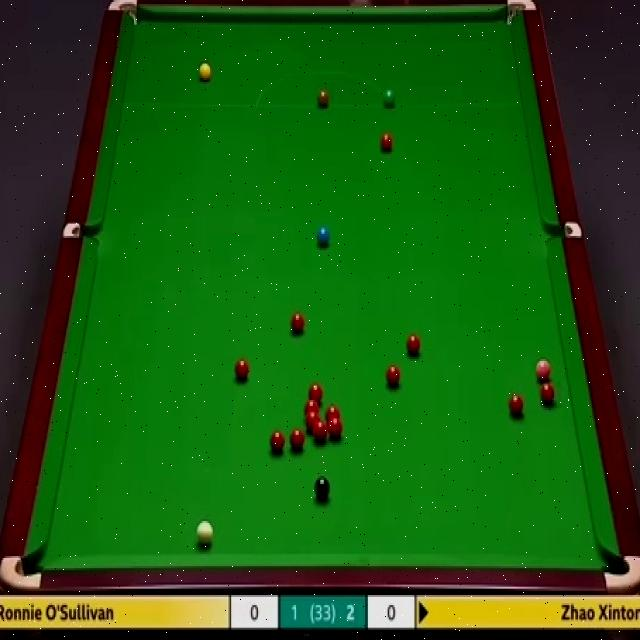black-ball: (314, 475, 330, 502)
blue-ball: (316, 226, 330, 244)
brown-ball: (316, 90, 330, 107)
green-ball: (383, 87, 396, 108)
pink-ball: (534, 358, 553, 384)
red-ball: (312, 421, 328, 446), (508, 392, 524, 416), (542, 384, 558, 406), (328, 418, 344, 439), (270, 430, 285, 452), (379, 131, 393, 154), (234, 359, 249, 380), (290, 428, 304, 450), (291, 312, 306, 332), (385, 366, 399, 387), (304, 414, 318, 433), (407, 335, 420, 355), (326, 404, 340, 422), (310, 382, 321, 404), (305, 403, 318, 419)
white-ball: (196, 518, 214, 546)
yellow-ball: (198, 62, 211, 82)
